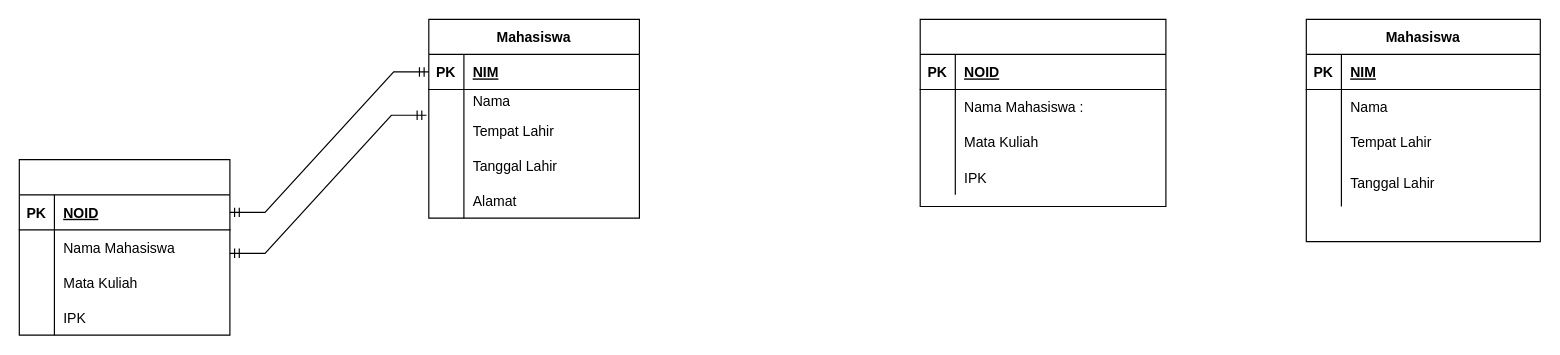
Some shapes in this 1560 by 355 pixel diagram are drawn without their labels. The box of each missing label's shape, as (x1, y1, x2, y2) in pixels:
Transkip: (18, 159, 230, 335)
Transkrip: (919, 18, 1166, 207)
